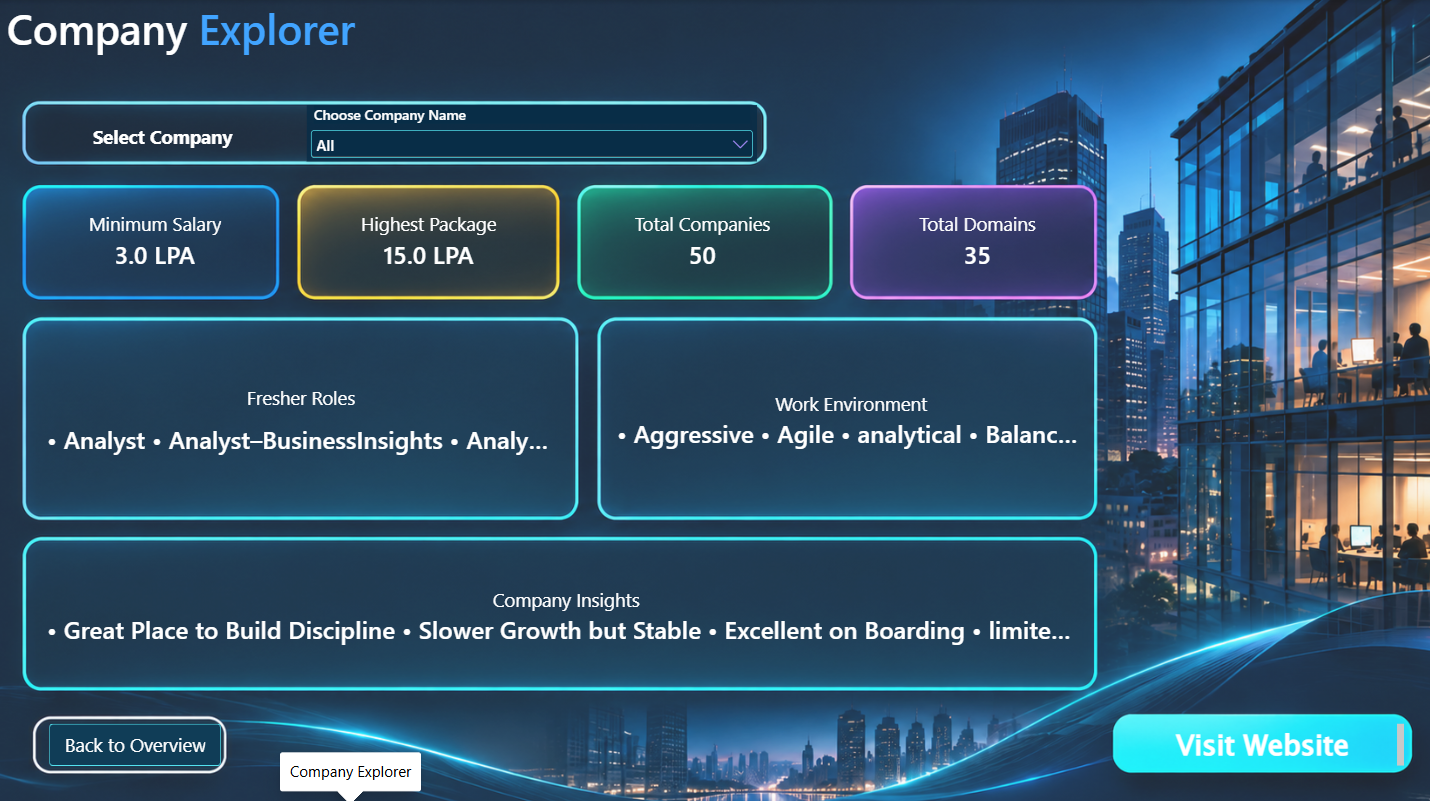

Layout of this report page (visuals, bound fields, positions):
{"tool":"powerbi","page":{"name":"Company Explorer","canvas":[1648,928],"ordinal":2},"visuals":[{"type":"textbox","box":[9.7,0,420.1,84],"z":0},{"type":"textbox","box":[40.4,142.2,297.3,43.6],"z":1},{"type":"slicer","fields":{"Values":["Companies.Company"]},"box":[353.8,121.2,517,64.6],"z":2},{"type":"cardVisual","fields":{"Data":["Measuretable.Highest Package"]},"box":[353.8,223,280.9,109.5],"z":3},{"type":"cardVisual","fields":{"Data":["Measuretable.Minimum Salary"]},"box":[40.4,223,280.9,109.5],"z":4},{"type":"cardVisual","fields":{"Data":["Measuretable.Total Companies"]},"box":[668.9,223,280.9,109.5],"z":5},{"type":"cardVisual","fields":{"Data":["Measuretable.Total Domains"]},"box":[984,223,280.9,109.5],"z":6},{"type":"cardVisual","fields":{"Data":["Measuretable.Fresher Roles"]},"box":[40.4,381.3,615.6,203.6],"z":7},{"type":"cardVisual","fields":{"Data":["Measuretable.Work Environment"]},"box":[694.7,381.3,570.3,203.6],"z":8},{"type":"cardVisual","fields":{"Data":["Measuretable.Company Insights"]},"box":[40.4,635,1224.7,145.4],"z":9},{"type":"textbox","box":[1297.4,830.5,316.7,48.5],"z":10},{"type":"actionButton","box":[58.2,830.5,197.1,48.5],"z":11}]}

Visuals, with their boxes in screenshot pixels (x1, y1, x2, y2), scaled from the page's 1648x928 canvas onto the 1430x801 screenshot:
textbox: [x1=8, y1=0, x2=373, y2=73]
textbox: [x1=35, y1=123, x2=293, y2=160]
slicer - Companies.Company: [x1=307, y1=105, x2=756, y2=160]
cardVisual - Measuretable.Highest Package: [x1=307, y1=192, x2=551, y2=287]
cardVisual - Measuretable.Minimum Salary: [x1=35, y1=192, x2=279, y2=287]
cardVisual - Measuretable.Total Companies: [x1=580, y1=192, x2=824, y2=287]
cardVisual - Measuretable.Total Domains: [x1=854, y1=192, x2=1098, y2=287]
cardVisual - Measuretable.Fresher Roles: [x1=35, y1=329, x2=569, y2=505]
cardVisual - Measuretable.Work Environment: [x1=603, y1=329, x2=1098, y2=505]
cardVisual - Measuretable.Company Insights: [x1=35, y1=548, x2=1098, y2=674]
textbox: [x1=1126, y1=717, x2=1401, y2=759]
actionButton: [x1=51, y1=717, x2=222, y2=759]
